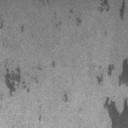red iron: (96, 58, 128, 128), (98, 0, 125, 20), (34, 60, 56, 84), (4, 66, 20, 96), (62, 91, 68, 102), (76, 18, 82, 26), (0, 20, 4, 29), (56, 22, 62, 28), (38, 114, 42, 122), (20, 25, 24, 32)
